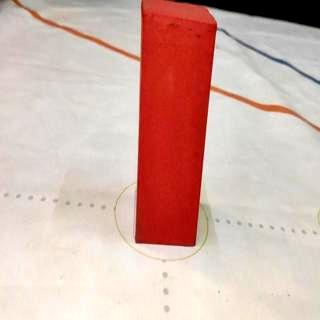redbox: (135, 1, 217, 246)
